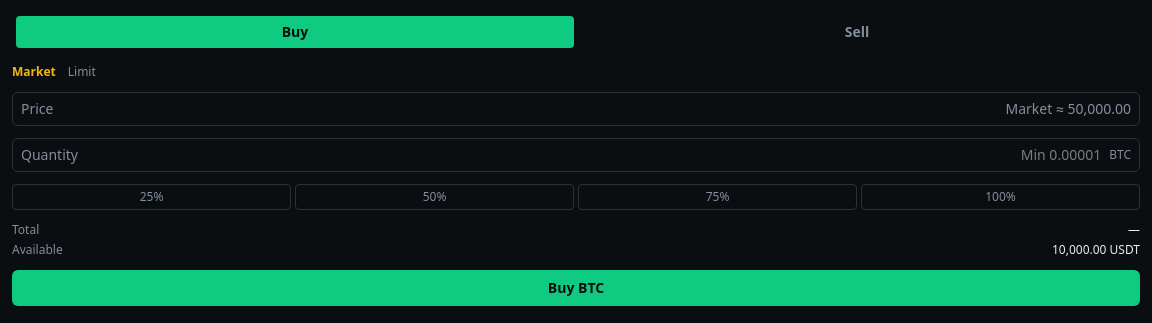
OrderForm › fills the quantity from the % buttons, rounded down to the step size
The image size is (1152, 323).
Click the button "50%".
click(434, 197)  # box [295,184,574,210]
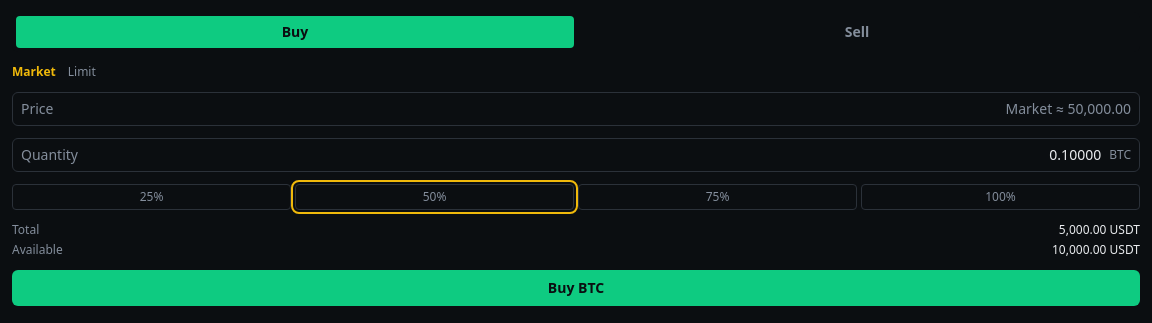
Expected: the field labelled "Quantity BTC" holds "0.10000", [86,145,1101,165]
